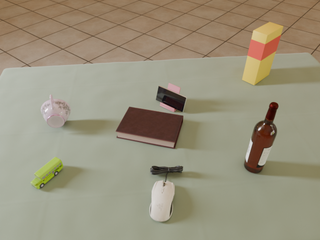book: (116, 107, 183, 149)
bottle: (244, 102, 278, 173)
box: (242, 22, 283, 85)
cup: (41, 95, 71, 128)
mouse: (150, 180, 174, 221)
phone: (156, 86, 187, 112)
toy_car: (31, 157, 63, 189)
